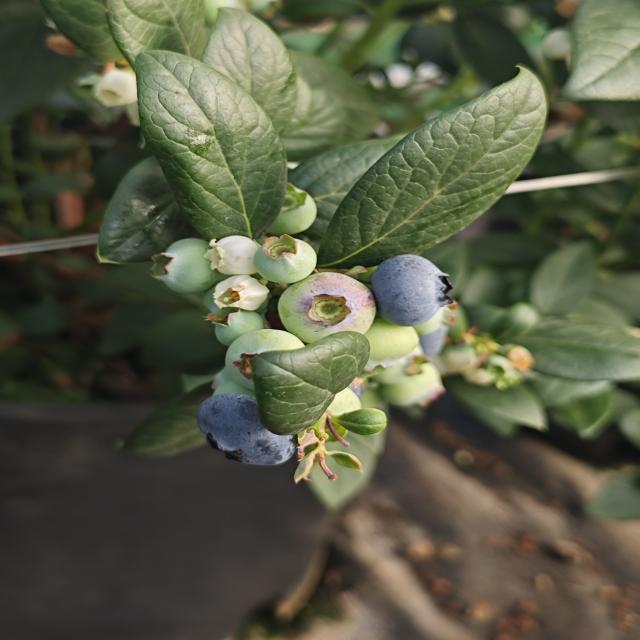ripe: (194, 390, 300, 469), (368, 252, 457, 328)
